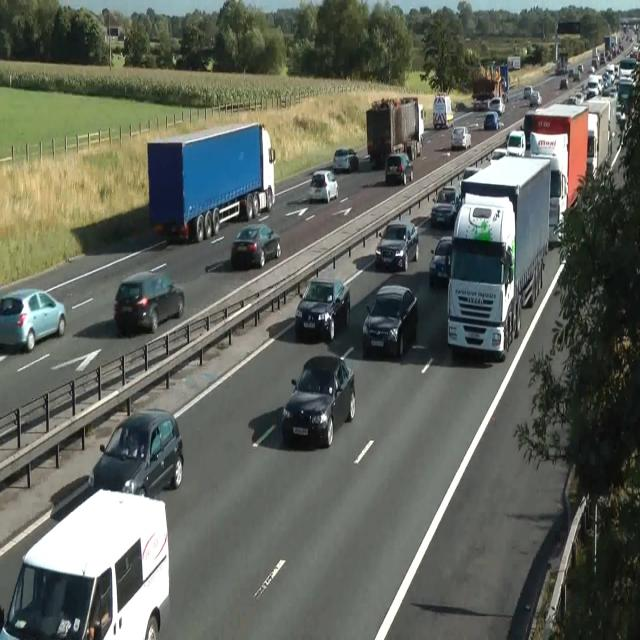bus: (281, 354, 355, 448), (0, 288, 66, 353), (231, 223, 281, 270), (375, 220, 419, 271), (430, 185, 461, 227), (429, 236, 453, 287), (308, 169, 338, 203), (385, 152, 413, 185), (458, 166, 481, 196), (333, 148, 359, 172), (451, 126, 472, 150), (489, 97, 505, 115), (484, 111, 499, 130), (490, 146, 506, 162), (462, 167, 480, 180), (529, 90, 541, 106), (473, 99, 488, 111), (524, 85, 532, 99), (578, 63, 584, 72)
jeep: (0, 486, 170, 638), (87, 407, 183, 497), (113, 270, 185, 334), (362, 283, 418, 358), (294, 276, 350, 340)
minibus: (446, 153, 552, 361), (146, 121, 276, 243), (491, 103, 588, 239), (565, 93, 616, 183), (366, 96, 424, 169), (471, 62, 509, 113), (432, 92, 453, 130)
